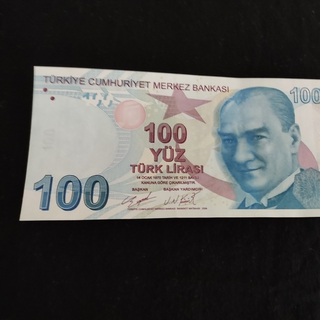100TLFront: (18, 65, 320, 221)
